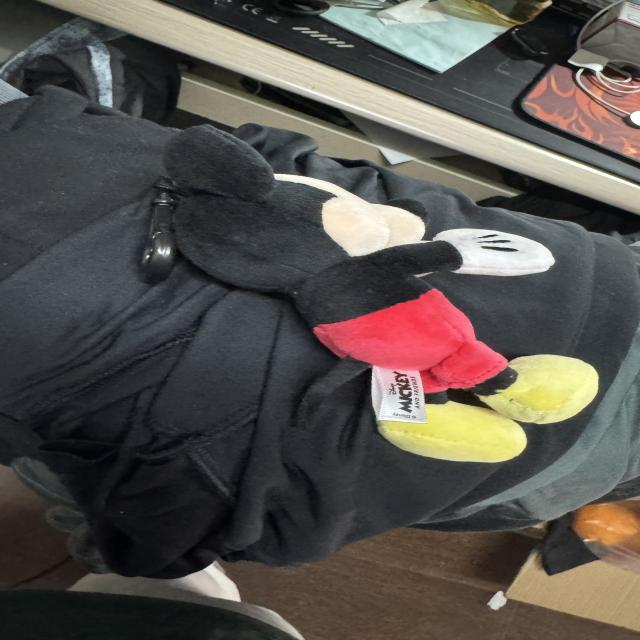mickey: (166, 127, 597, 461)
